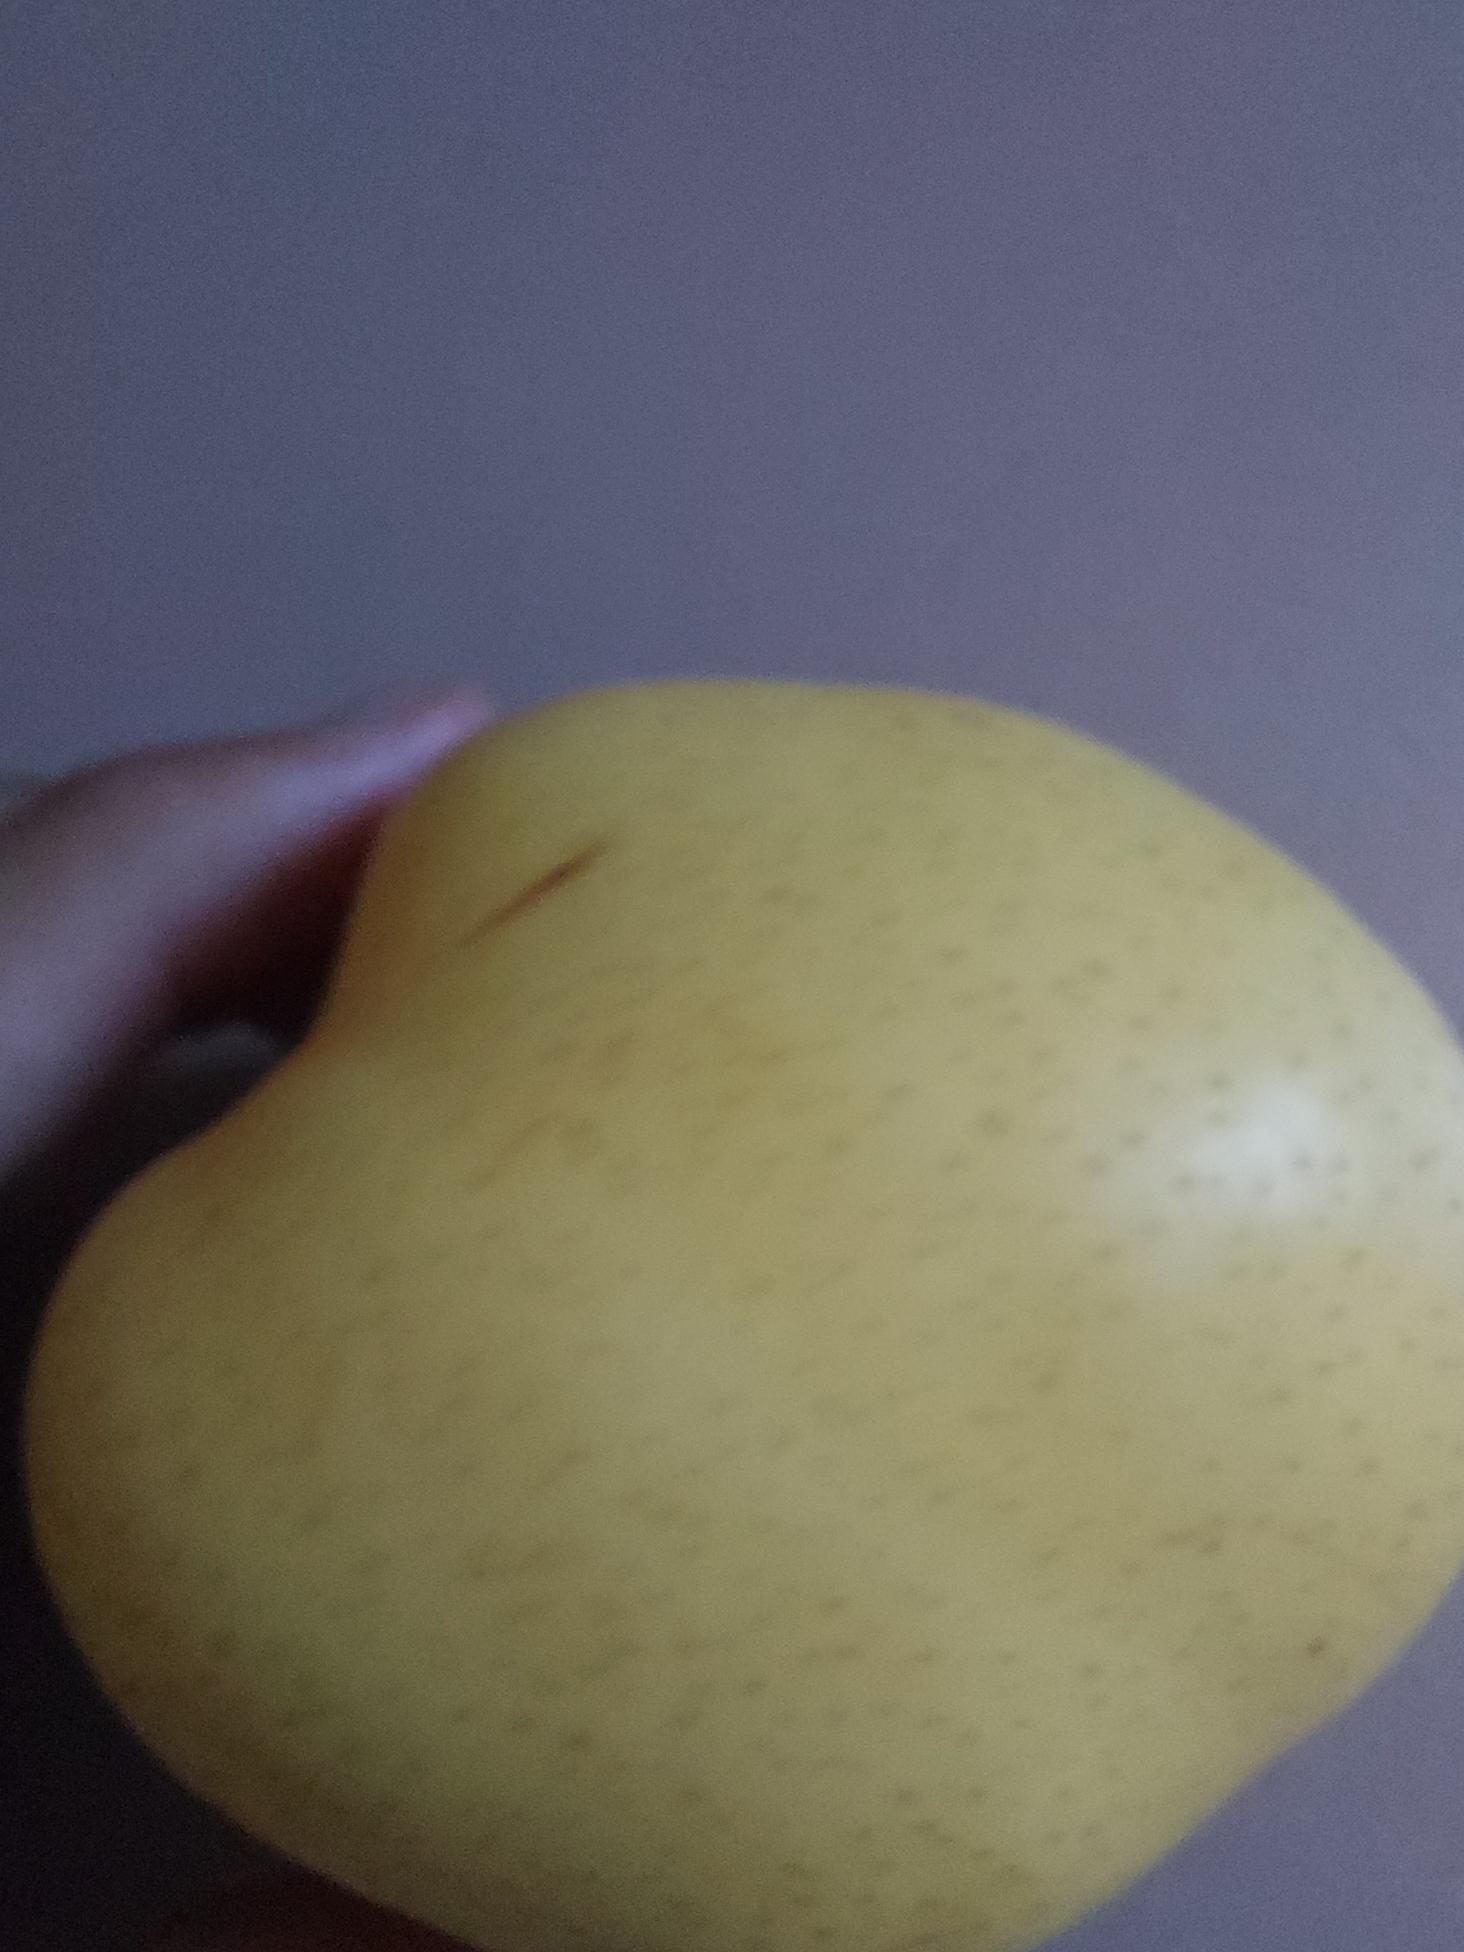Good Pear: (0, 670, 1464, 1952)
